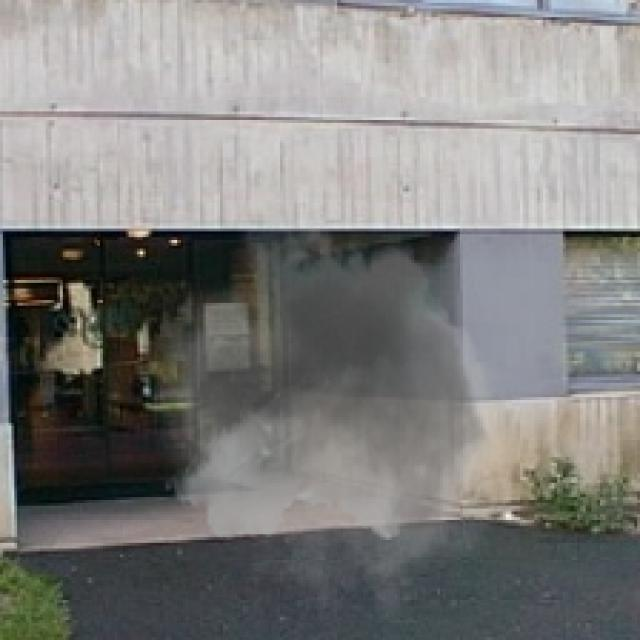Smoke: (152, 200, 517, 626)
